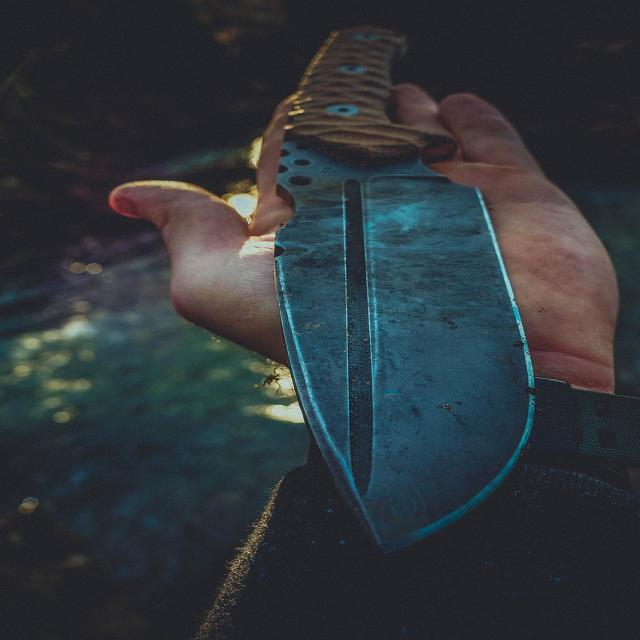knife: (269, 25, 535, 554)
